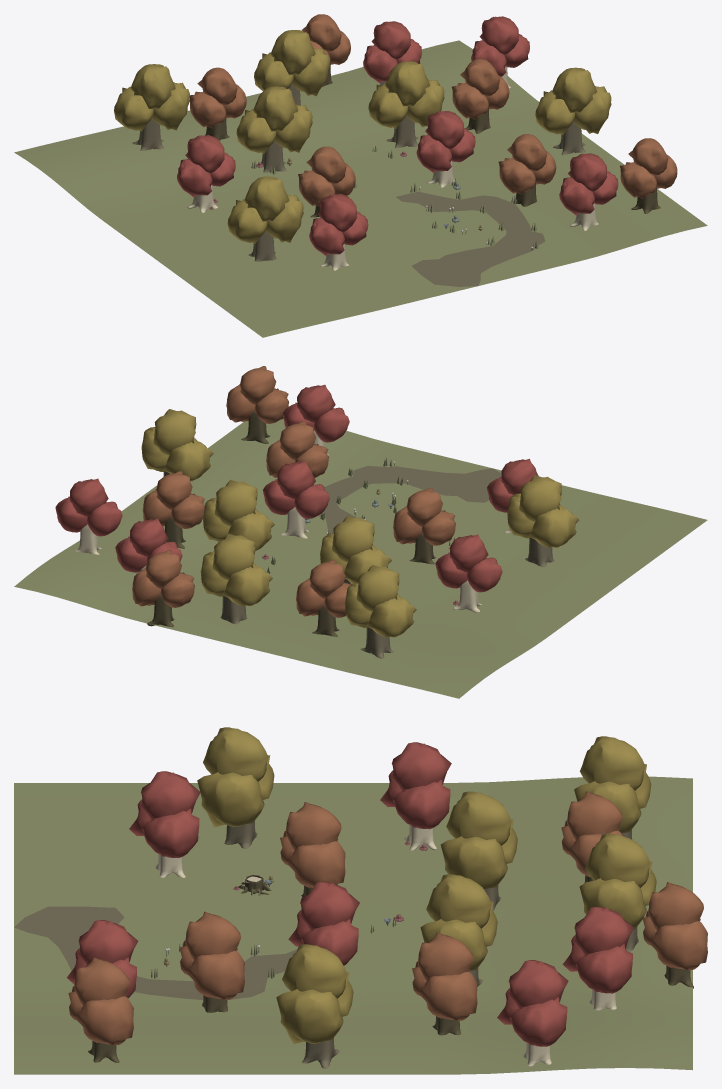
File: ApplePicking.fbx
3 views of the same model, one above another, from view 1: azimuth 30°, elevation 25°; view 2: azimuth 150°, elevation 25°; view 3: azimuth 270°, elevation 25° (orthographic). The views are drawn at different scales.
Visible parts, largest first — view 1: Ground, TreeB6, TreeB2, TreeB1, TreeB5, TreeB4, TreeB3, TreeA1, TreeA4, TreeA3, TreeA2, TreeC4 (+7 smaller); view 2: Ground, TreeB2, TreeB5, TreeB3, TreeB6, TreeB4, TreeA1, TreeA2, TreeA6, TreeC5, TreeC6, TreeC4 (+7 smaller); view 3: Ground, TreeB6, TreeB5, TreeB1, TreeB3, TreeA1, TreeA3, TreeA6, TreeA5, TreeC4, TreeC5, TreeC3 (+7 smaller).
Part boxes in pixels (x1,y1,x2,y2): Ground: [14, 40, 707, 337]; TreeB6: [535, 67, 611, 155]; TreeB2: [114, 64, 189, 150]; TreeB1: [236, 86, 312, 172]; TreeB5: [227, 176, 303, 261]; TreeB4: [368, 61, 444, 148]; TreeB3: [254, 30, 329, 105]; TreeA1: [177, 135, 235, 212]; TreeA4: [559, 153, 618, 230]; TreeA3: [309, 194, 368, 270]; TreeA2: [416, 111, 475, 187]; TreeC4: [620, 138, 677, 213]; Ground: [14, 419, 707, 698]; TreeB2: [344, 565, 416, 658]; TreeB5: [507, 475, 579, 567]; TreeB3: [200, 533, 272, 624]; TreeB6: [141, 409, 213, 481]; TreeB4: [203, 479, 274, 550]; TreeA1: [435, 534, 502, 612]; TreeA2: [263, 461, 329, 538]; TreeA6: [55, 478, 122, 554]; TreeC5: [132, 550, 194, 627]; TreeC6: [393, 488, 455, 564]; TreeC4: [226, 366, 288, 443]; Ground: [14, 776, 692, 1074]; TreeB6: [276, 944, 353, 1068]; TreeB5: [197, 727, 274, 848]; TreeB1: [440, 791, 517, 911]; TreeB3: [579, 833, 656, 951]; TreeA1: [380, 742, 451, 850]; TreeA3: [129, 771, 200, 877]; TreeA6: [497, 960, 568, 1066]; TreeA5: [562, 906, 633, 1010]; TreeC4: [68, 957, 133, 1062]; TreeC5: [642, 882, 707, 988]; TreeC3: [412, 932, 477, 1035].
Bounding box in the file's own units: 86.96 × 16.37 × 83.54.
